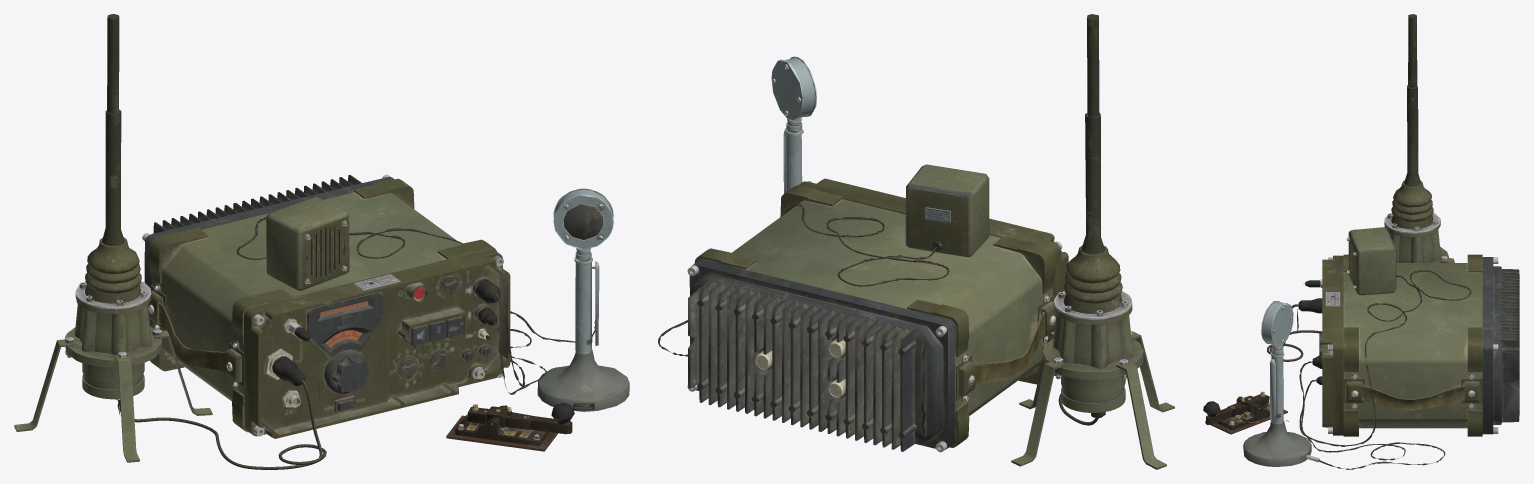
The model's file is vintage_radio_transceiver.glb.
3 views of the same model, side by side, from view 1: azimuth 30°, elevation 25°; view 2: azimuth 150°, elevation 25°; view 3: azimuth 270°, elevation 25° (orthographic). The views are drawn at different scales.
Parts seen in each view (by area): view 1: vintage_radio_transceiver, vintage_radio_transceiver_cable; view 2: vintage_radio_transceiver, vintage_radio_transceiver_cable; view 3: vintage_radio_transceiver, vintage_radio_transceiver_cable.
Boxes of the visible parts, box(x1,y1,x2,y2) form: vintage_radio_transceiver: box(142, 174, 510, 438); vintage_radio_transceiver_cable: box(14, 14, 629, 469); vintage_radio_transceiver: box(687, 178, 1068, 452); vintage_radio_transceiver_cable: box(658, 14, 1174, 469); vintage_radio_transceiver: box(1319, 254, 1519, 436); vintage_radio_transceiver_cable: box(1203, 14, 1471, 469).
Size of the model in its own units: 0.574 by 0.4344 by 0.4128.
Materials: 2 (2 with a texture image).
